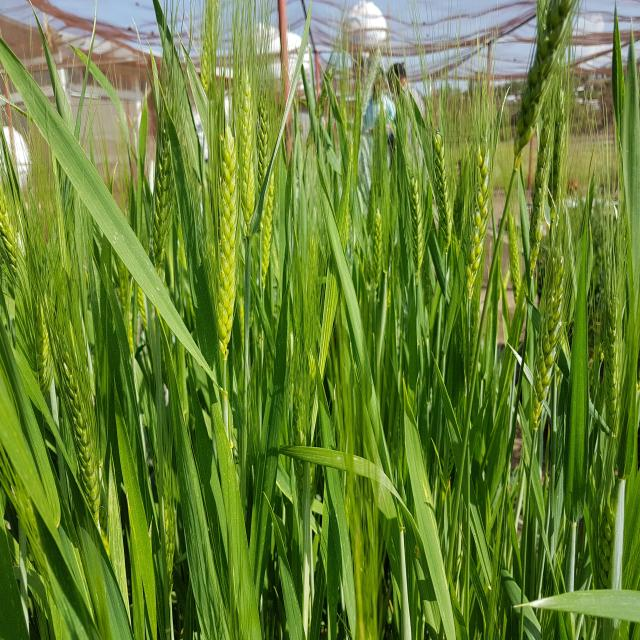healthy_wheat: (5, 57, 640, 640), (500, 0, 600, 144), (125, 0, 218, 144)
